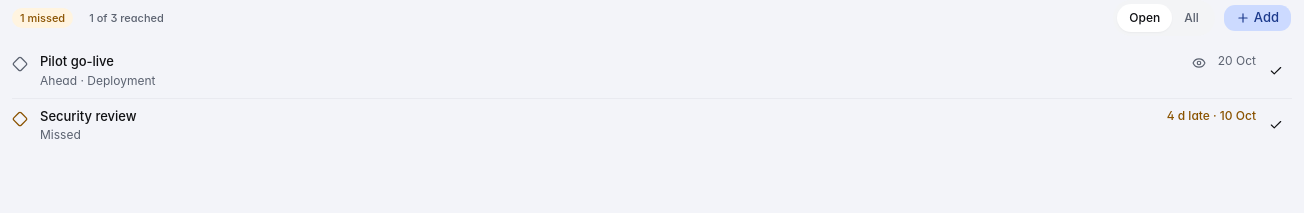
Test: MilestonesPanel › lists what is open with the missed one in words, and the reached ones under All
Expected: the text "Pilot go-live" is shown, top-left (40, 53), bottom-right (114, 69)
Expected: the text "1 missed" is shown, top-left (12, 8), bottom-right (73, 28)
What coordinates should you click on to do the following:
click the radio button labelled "All"
I would click on:
 (1192, 18)
Its box is top-left (1172, 4), bottom-right (1211, 32).
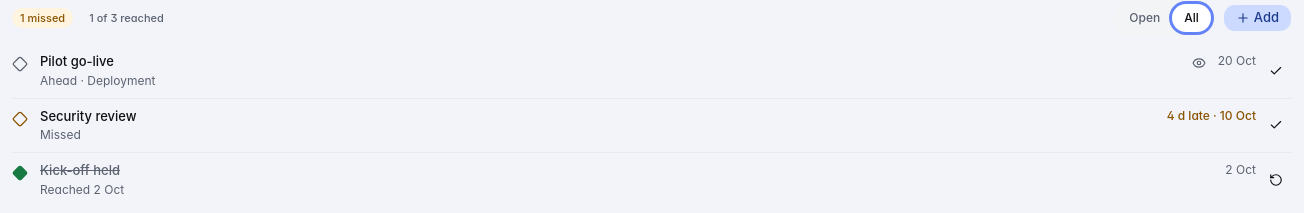
Expected: the text "Kick-off held" is shown, top-left (40, 162), bottom-right (120, 178)
Expected: the text "Reached 2 Oct" is shown, top-left (40, 182), bottom-right (124, 196)
